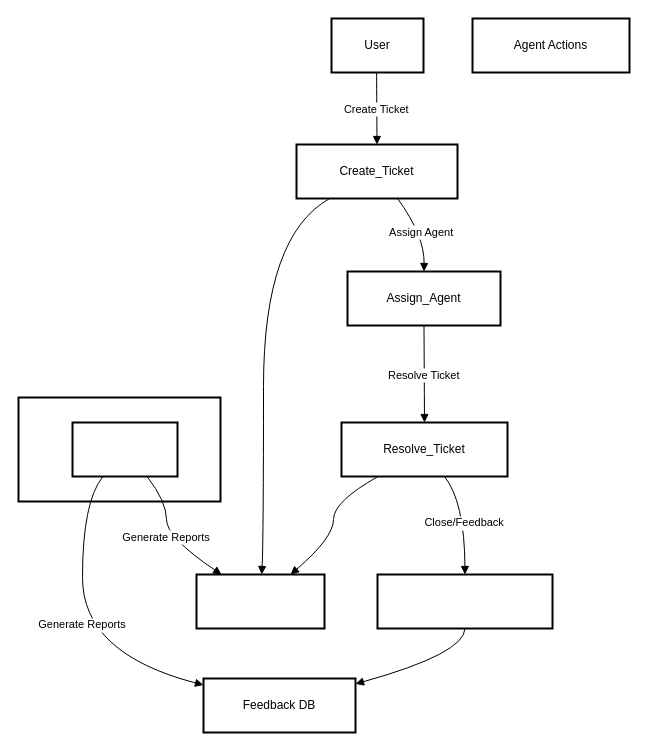
Some shapes in this 647 by 750 pixel diagram are drawn without their labels. The box of each missing label's shape, as (x1, y1, x2, y2) in pixels:
Admin: (71, 421, 178, 477)
Close_Feedback: (376, 573, 553, 629)
Ticket DB: (195, 573, 325, 629)
